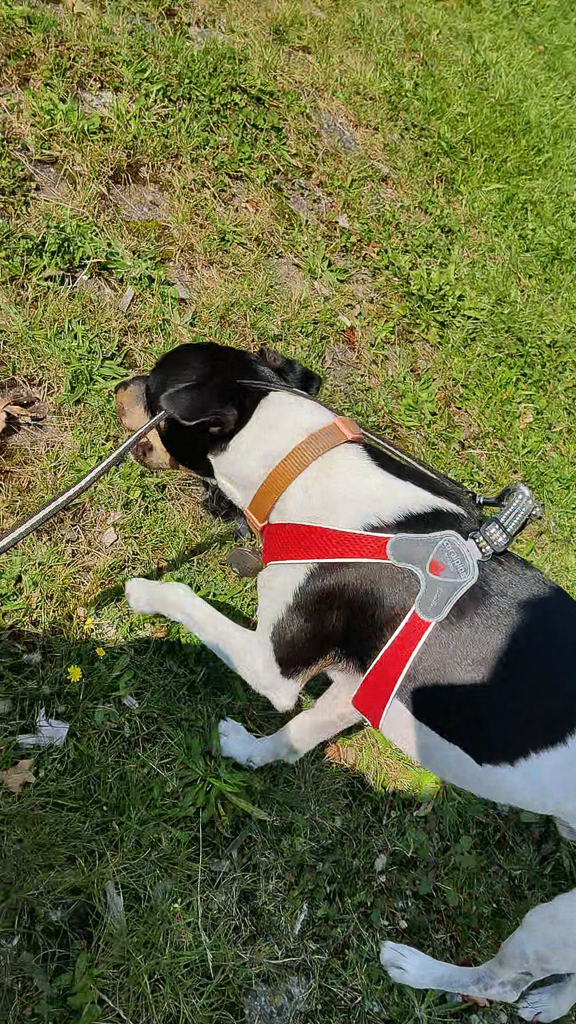Dog: (84, 330, 576, 1024)
